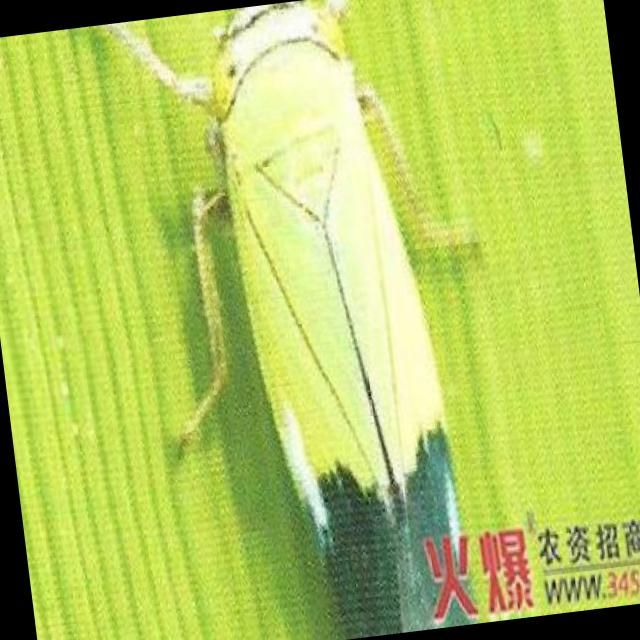green-leafhopper: (198, 0, 475, 640)
